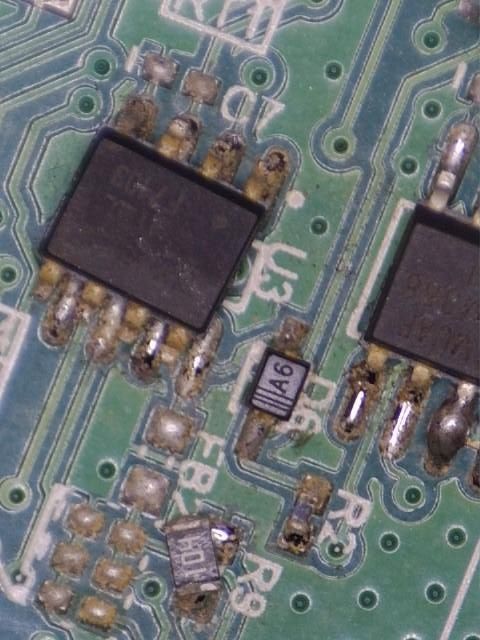pcb_defect: (34, 98, 292, 401), (164, 509, 246, 622)
